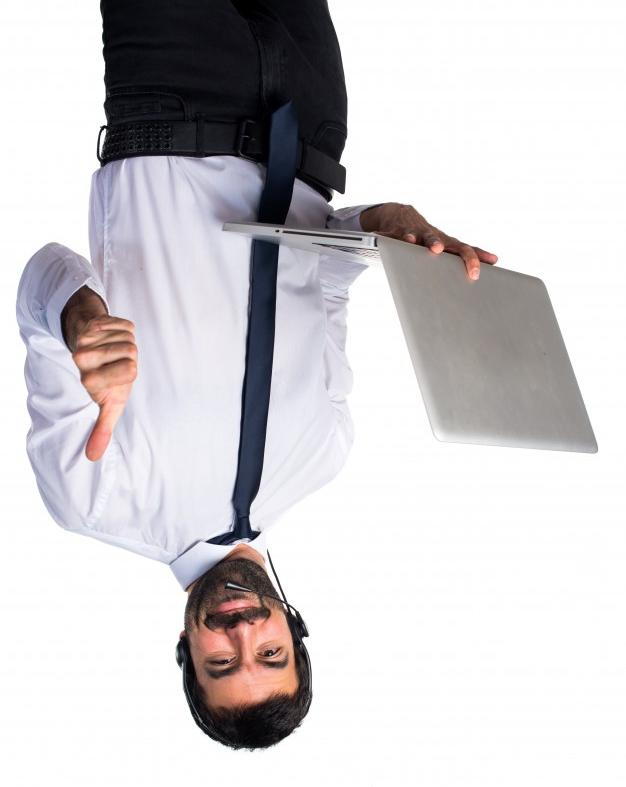thumbsdown: (72, 315, 138, 462)
